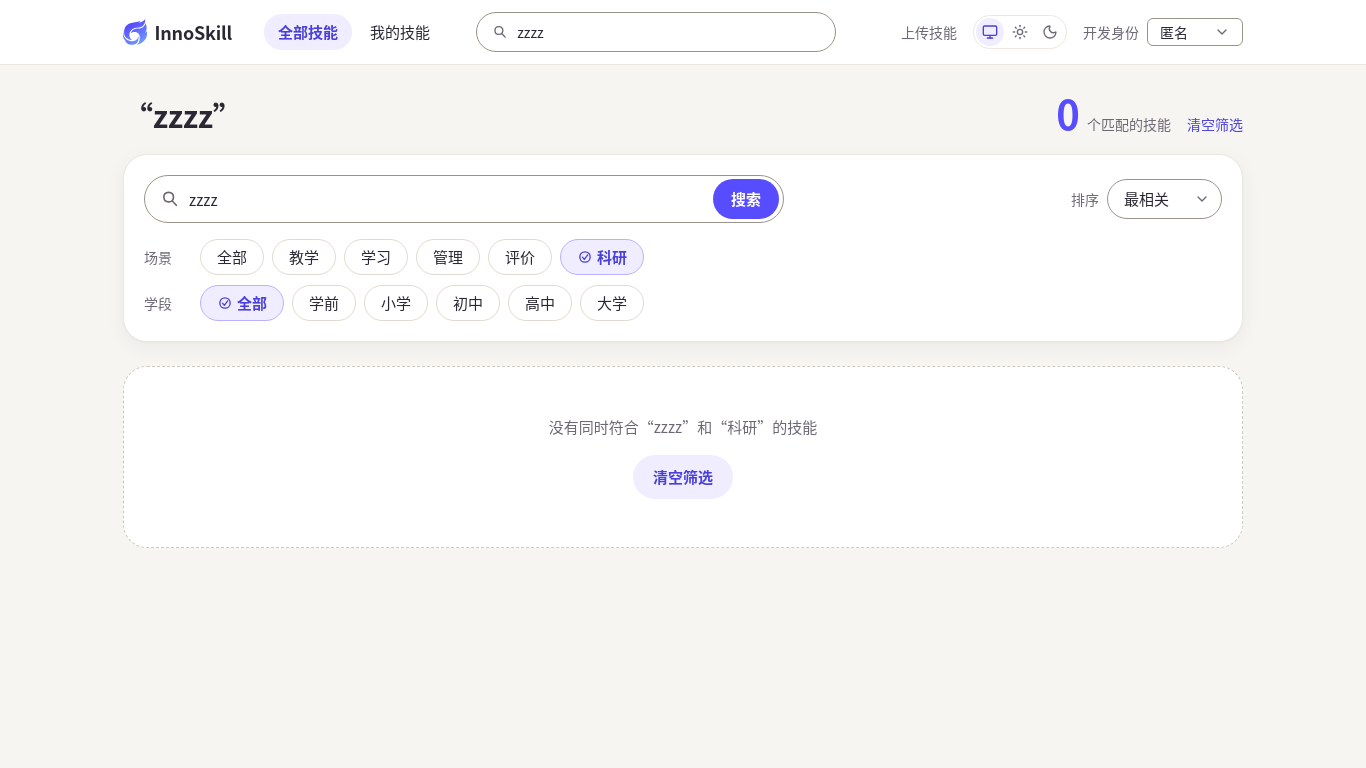
Scenario: 搜索页 · 标签筛选 › 没有结果时说清是哪些条件没有交集，并能一键清空
Check: the text "没有同时符合“zzzz”和“科研”的技能" is shown, box [549,415,817,439]
// 页头和空态各有一个「清空筛选」，点空态里的
Click the button "清空筛选" below "没有同时符合“zzzz”和“科研”的技能" at (683, 477), box [633,455,733,499]
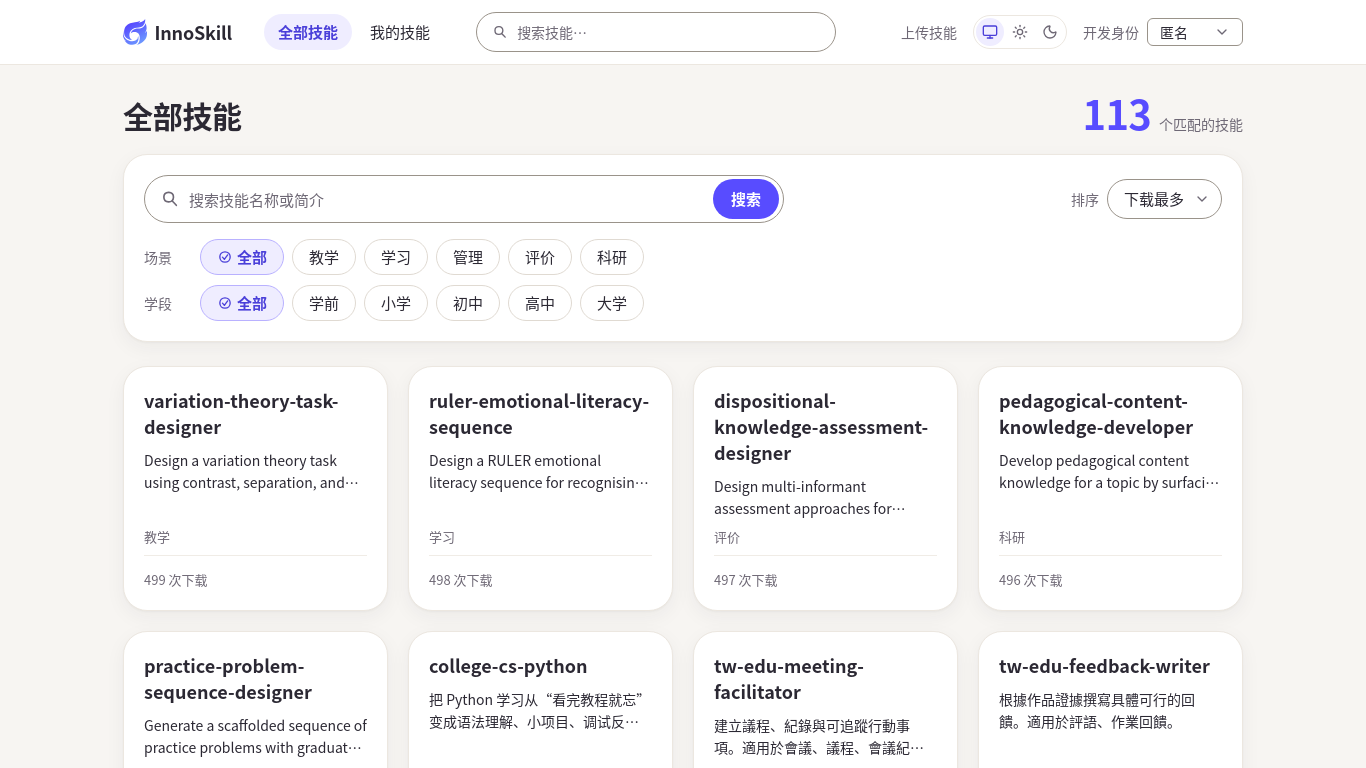
Check: the text "113" is shown, box [1083,93,1151,133]
